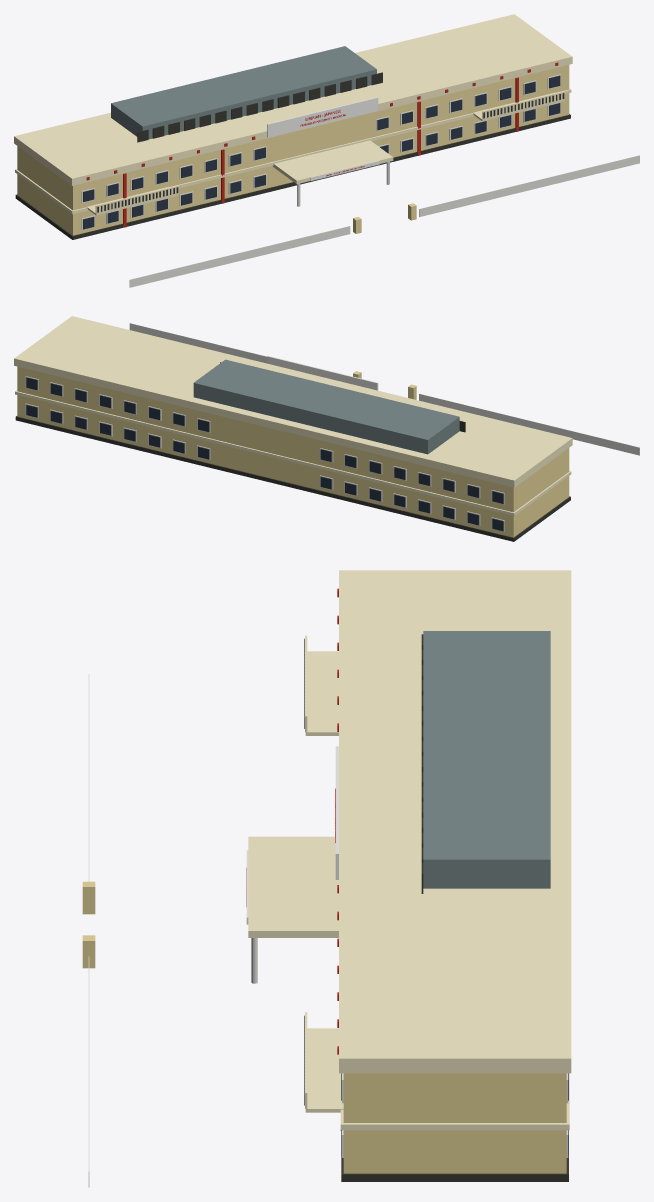
The model's file is jfk.v2.glb.
3 views of the same model, one above another, from view 1: azimuth 30°, elevation 25°; view 2: azimuth 150°, elevation 25°; view 3: azimuth 270°, elevation 25° (orthographic). The views are drawn at different scales.
Bounding box in the file's own units: 74 × 10.6 × 30.7.
